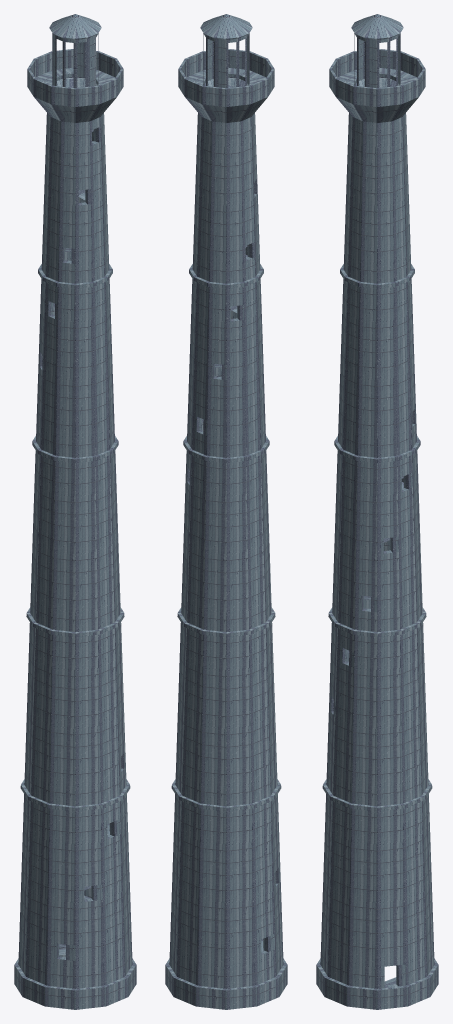
The model's file is torreFaro.gltf.
3 views of the same model, side by side, from view 1: azimuth 90°, elevation 25°; view 2: azimuth 150°, elevation 25°; view 3: azimuth 270°, elevation 25° (orthographic).
Parts seen in each view (by area): view 1: IND-13_Faro.001-col; view 2: IND-13_Faro.001-col; view 3: IND-13_Faro.001-col.
Part boxes in pixels (x1,y1,x2,y2): IND-13_Faro.001-col: [14, 14, 136, 1009]; IND-13_Faro.001-col: [165, 14, 287, 1009]; IND-13_Faro.001-col: [316, 14, 438, 1009].
Size of the model in its own units: 13.7 by 120 by 13.7.
Materials: 1 (1 with a texture image).
